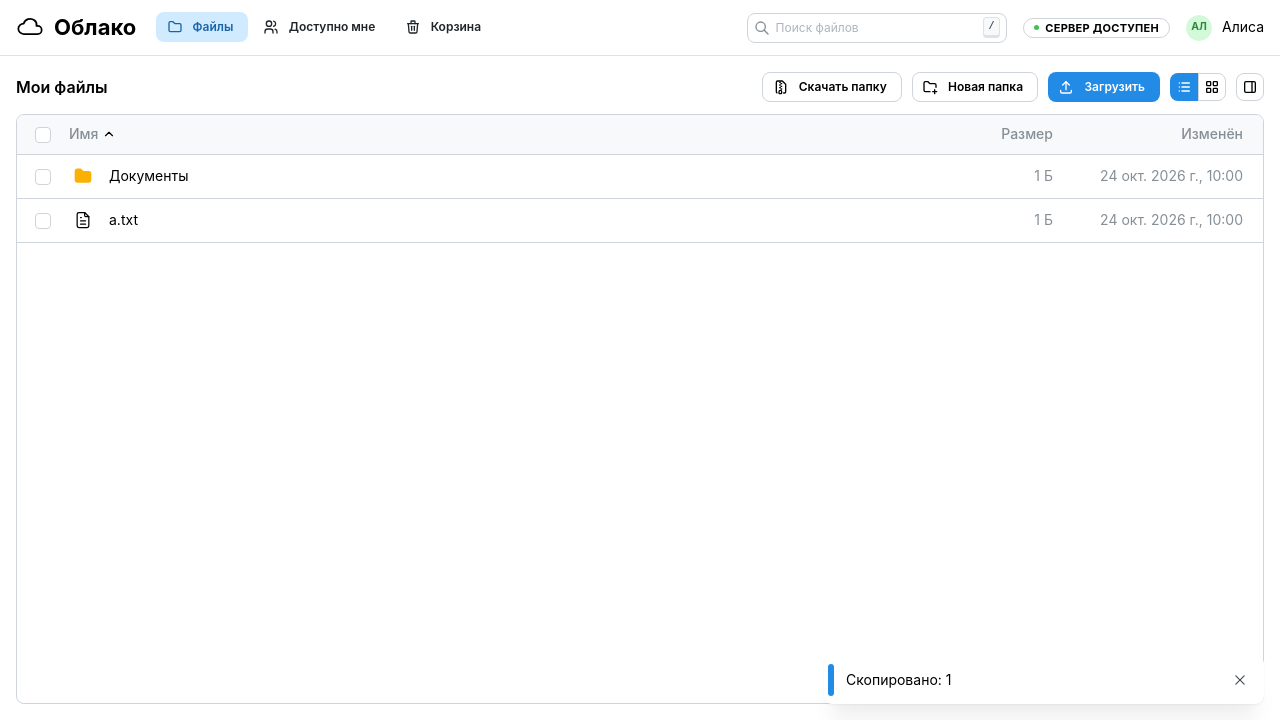
Test case: copying › follows a big copy to its end
The width and height of the screenshot is (1280, 720).
Step 1. Click the option that starts with "Документы" → coordinates (149, 176), box [17,155,1263,199]
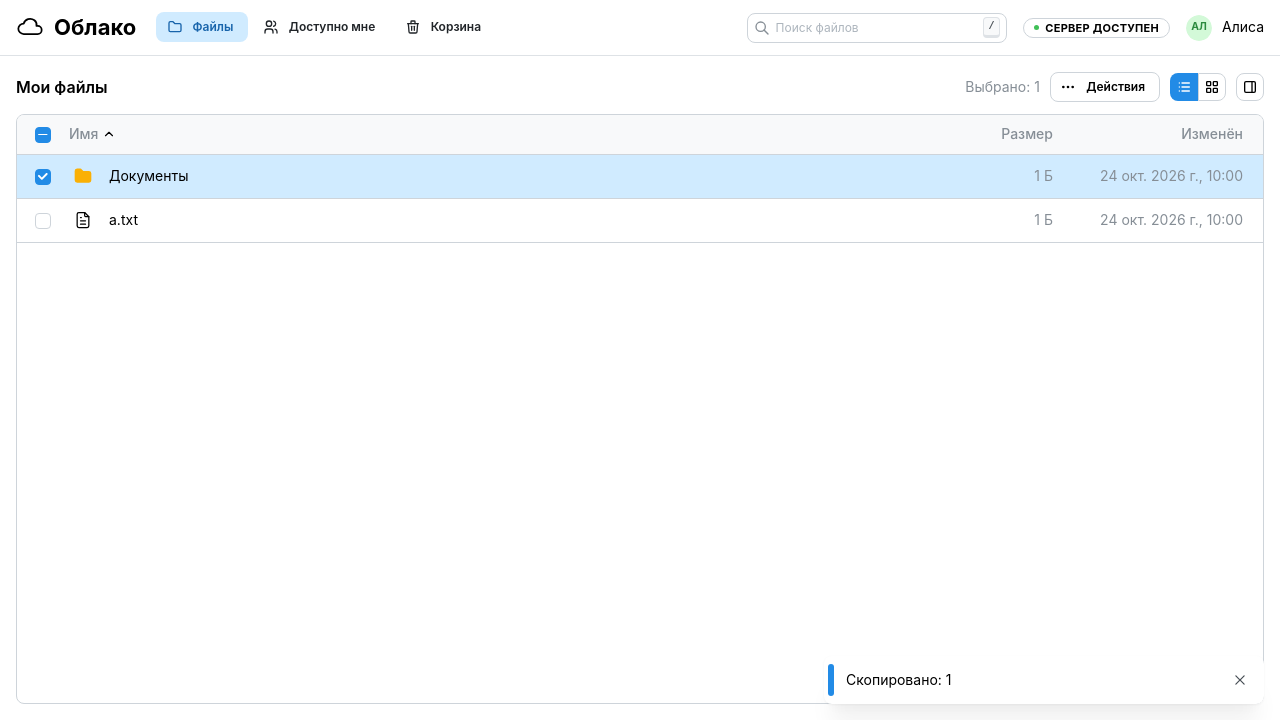
Step 2. Click the button "Действия" → coordinates (1105, 87), box [1050,72,1160,102]
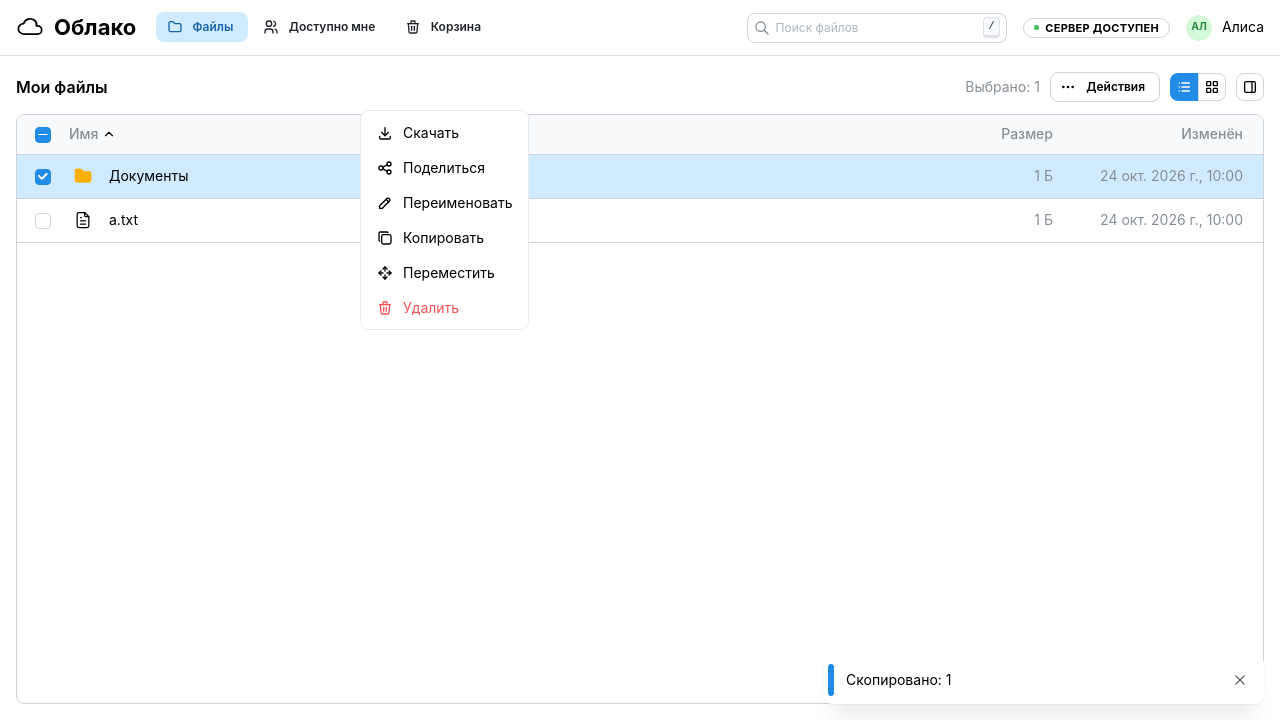
Step 3. Click the menu item "Копировать" → coordinates (445, 238), box [365,220,524,255]
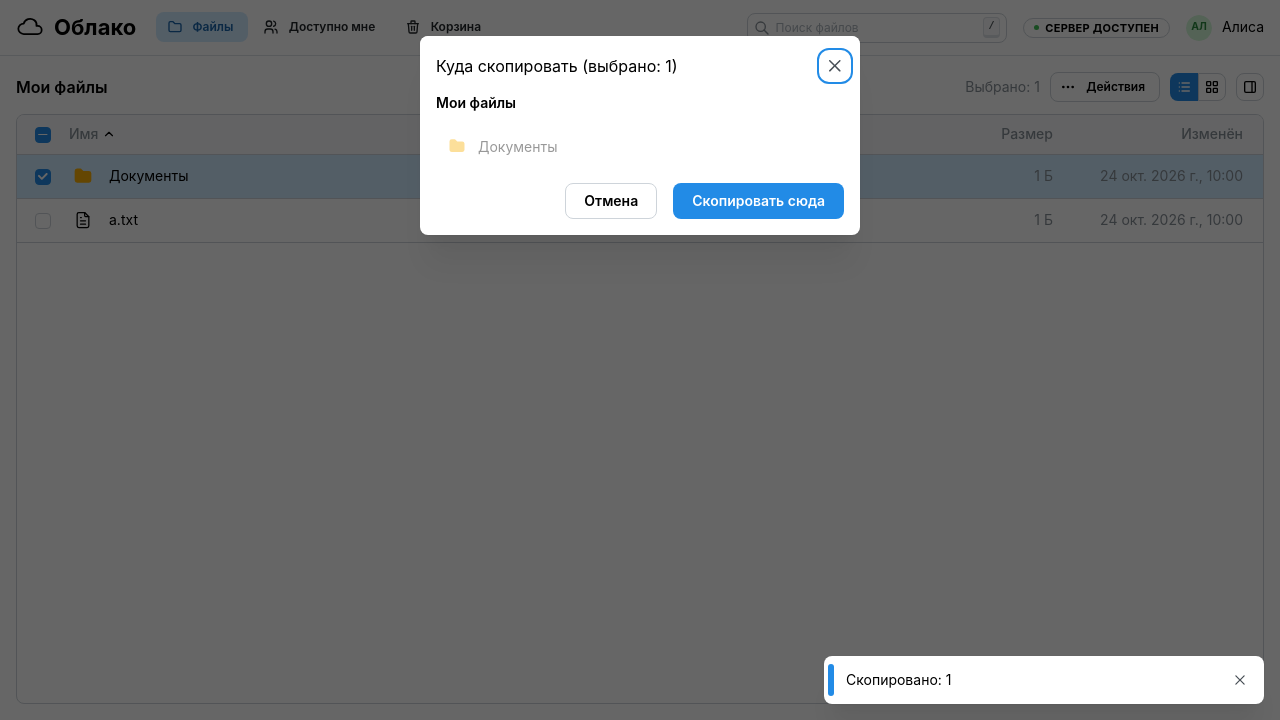
Step 4. Click the button "Скопировать сюда" → coordinates (759, 201), box [673,183,844,219]
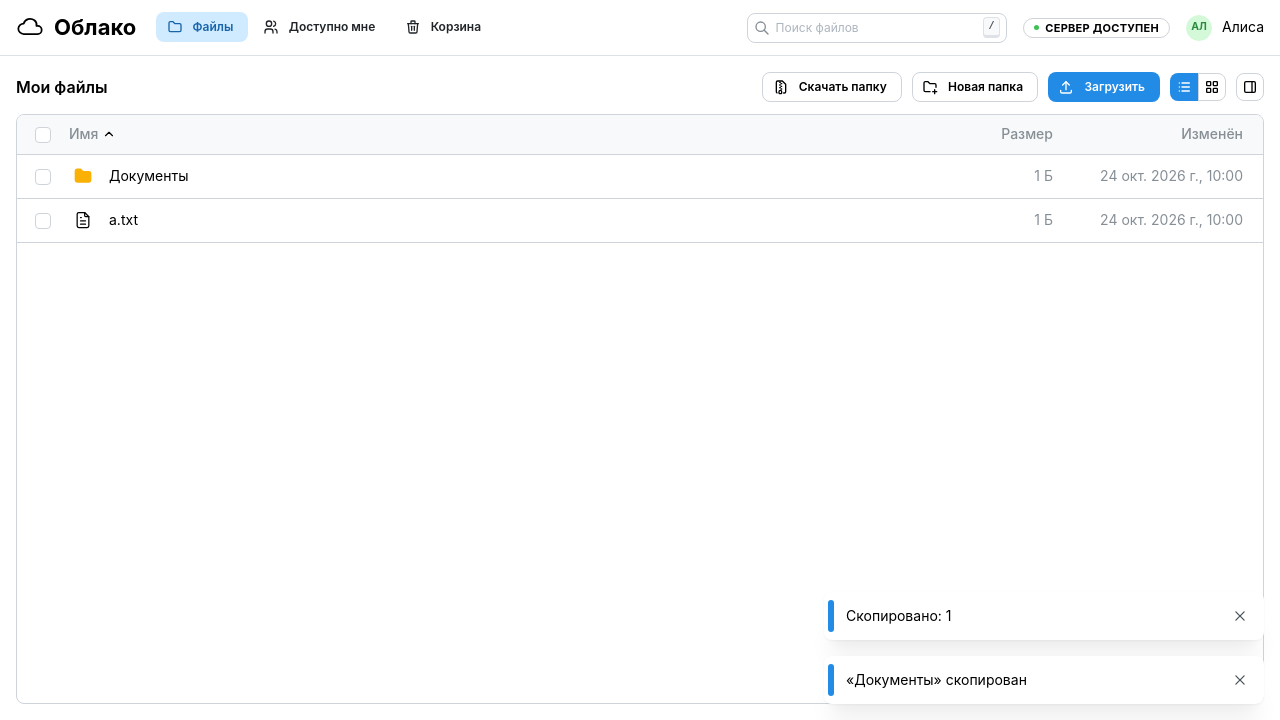
Expected: the text "«Документы» скопирован" is shown, [846,671,1027,688]
